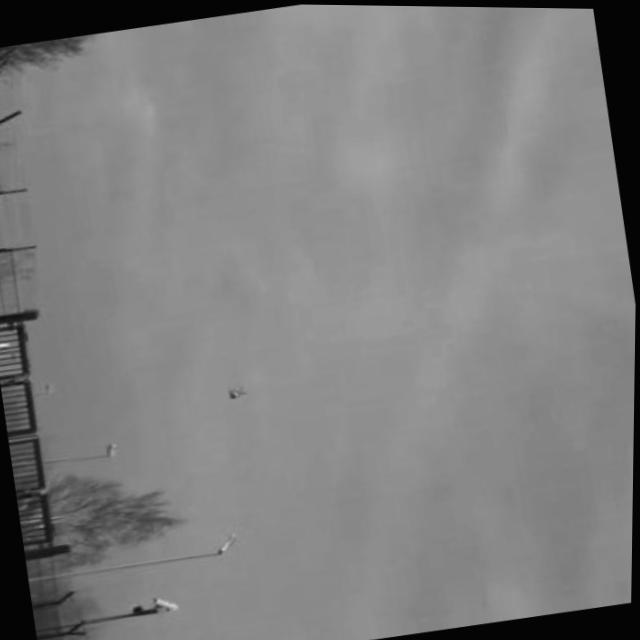helikopter: (224, 378, 256, 403)
